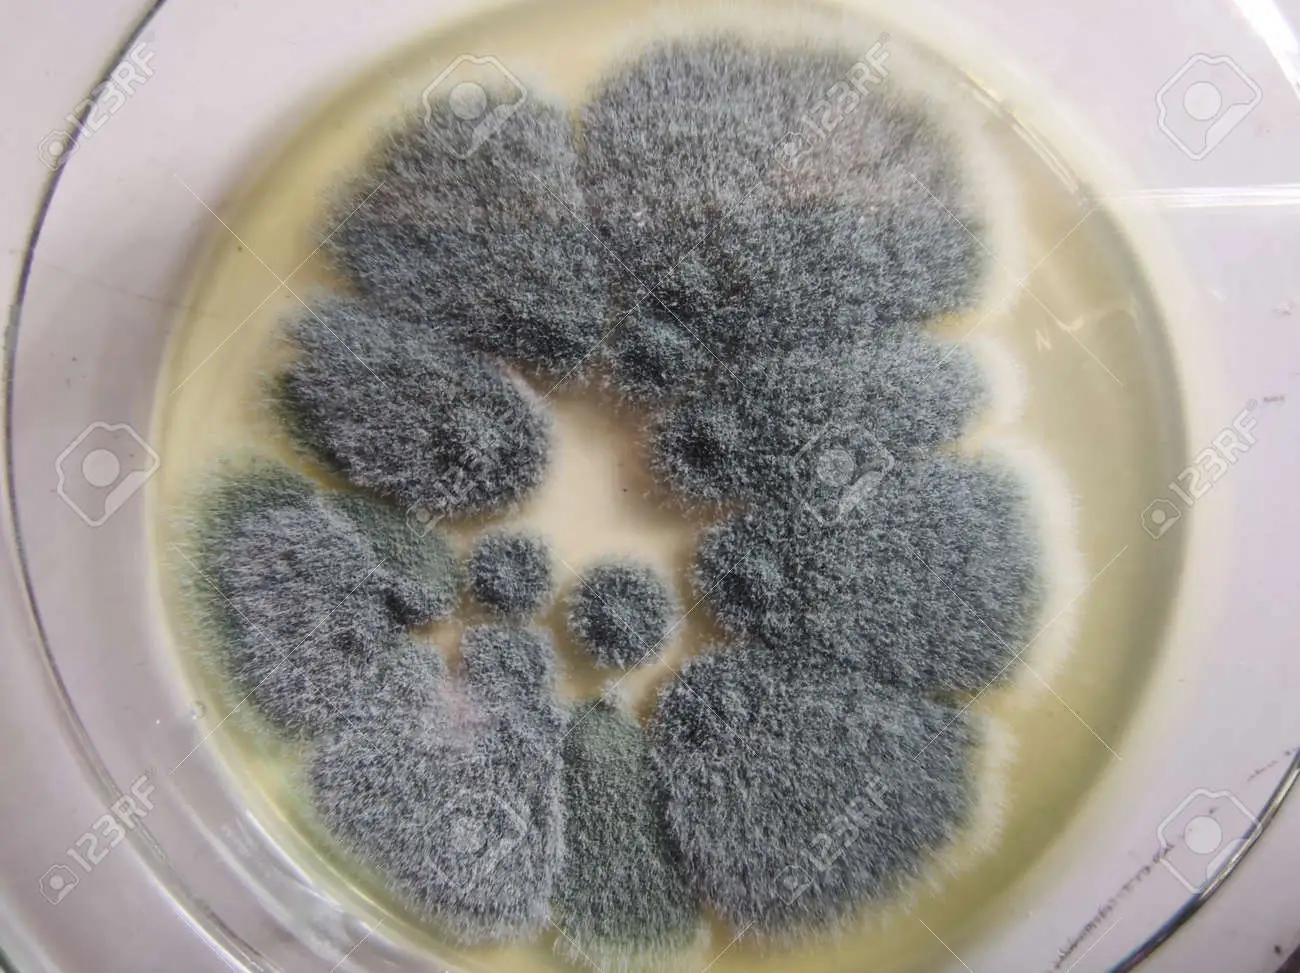Aspergillus: (639, 398, 1068, 693), (349, 140, 600, 395), (182, 476, 455, 708), (536, 690, 738, 959)
